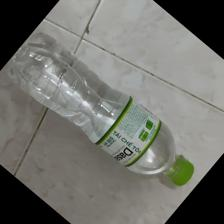Dasani: (2, 30, 196, 186)
